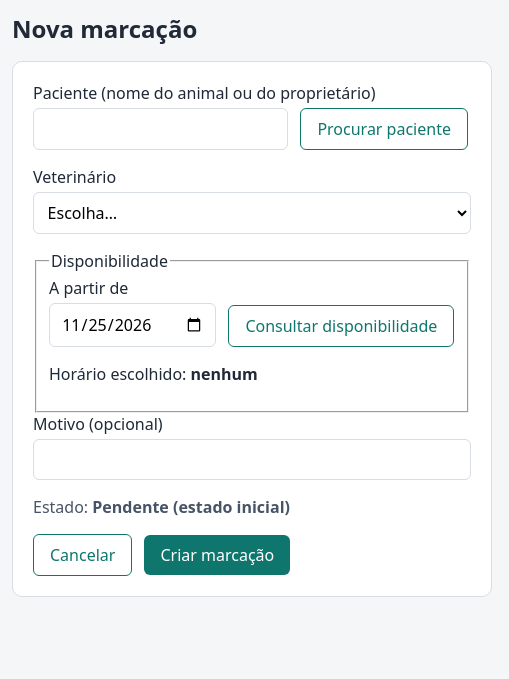
Test: W10 — nova marcação › não deixa criar sem paciente, Veterinário e horário livre
Click the button "Criar marcação": click(217, 555) [144,535,290,575]
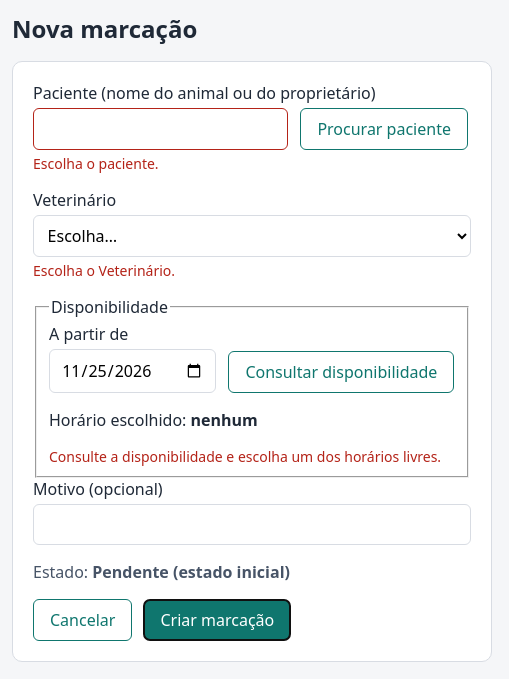
Expected: the text "Escolha o paciente." is shown, [33,154,159,173]
Expected: the text "Escolha o Veterinário." is shown, [33,261,175,280]
Expected: the text "Consulte a disponibilidade e escolha um dos horários livres." is shown, [49,447,455,466]
